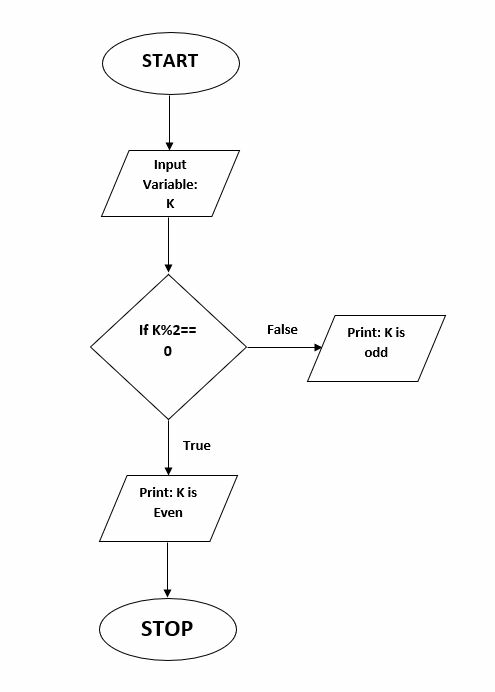arrow: (248, 339, 323, 355), (162, 212, 175, 275), (162, 539, 173, 603), (163, 96, 176, 150), (163, 415, 174, 474)
data: (96, 470, 241, 546), (305, 310, 449, 386), (99, 148, 245, 221)
decision: (89, 275, 249, 420)
terminator: (97, 594, 240, 663), (99, 30, 244, 97)
text: (140, 155, 201, 209), (134, 319, 198, 357), (345, 323, 409, 360), (136, 484, 199, 520), (138, 52, 200, 74), (138, 617, 192, 639), (181, 437, 216, 455), (265, 322, 301, 338)
